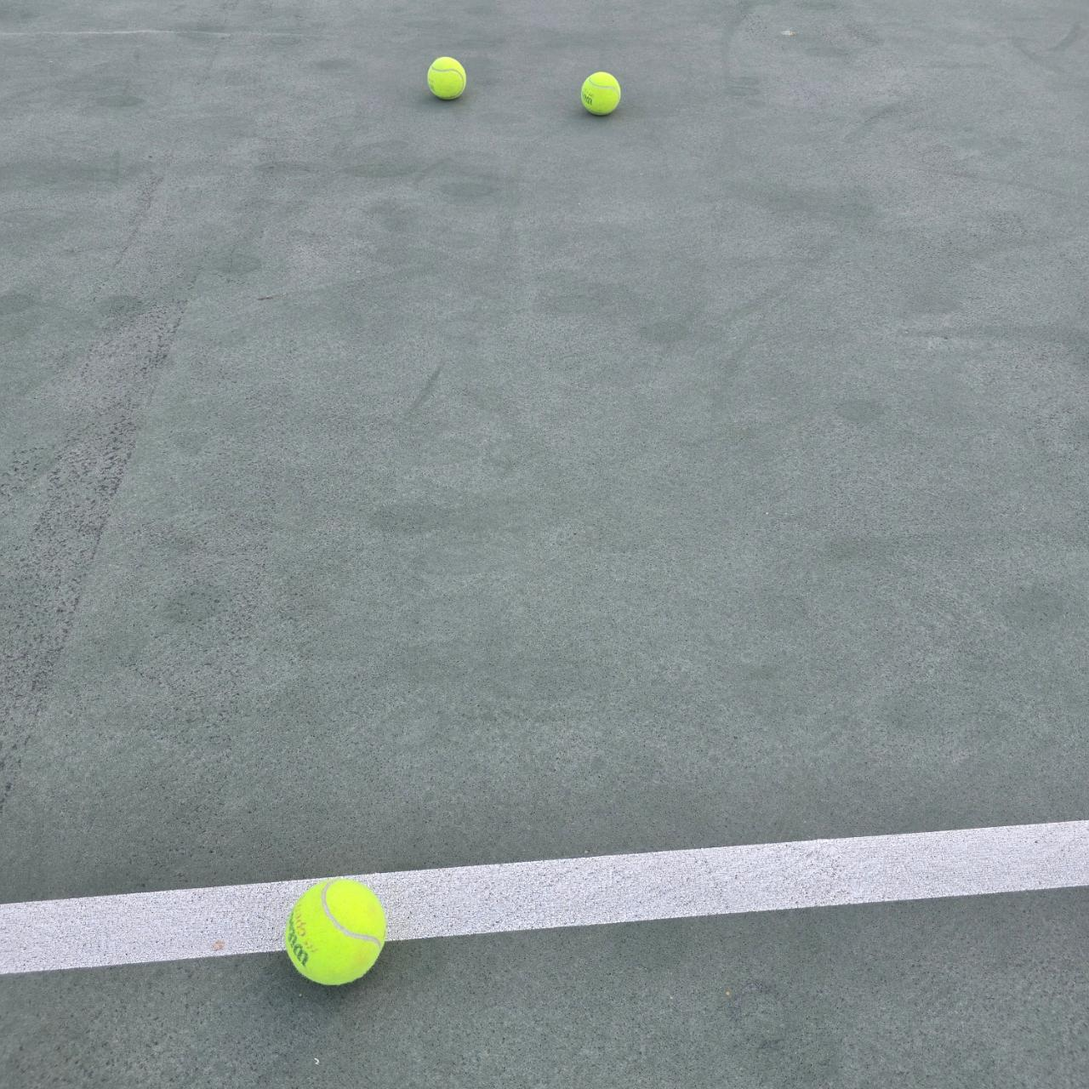tennis-ball: (282, 875, 388, 987), (579, 69, 621, 116), (425, 54, 467, 100)
